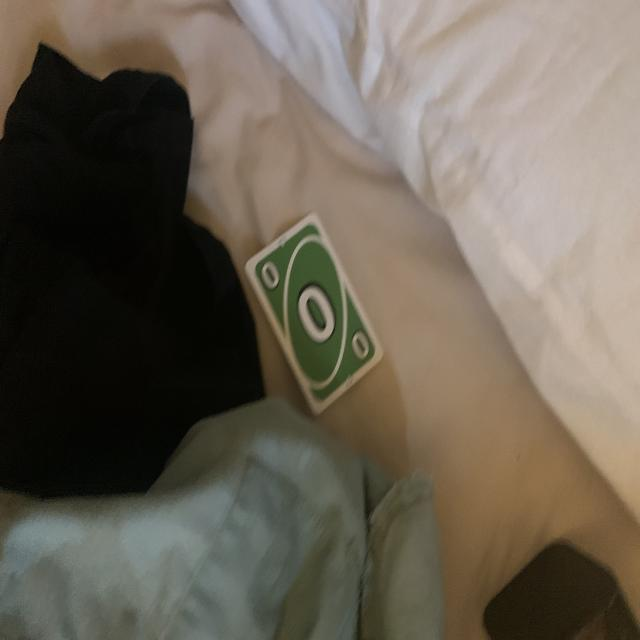lgreen-0: (258, 257, 282, 294)
